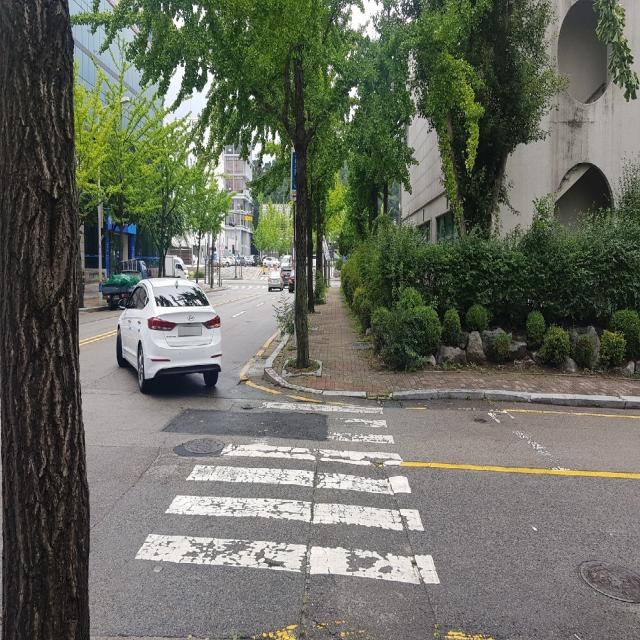횡단보도: (132, 398, 441, 588)
